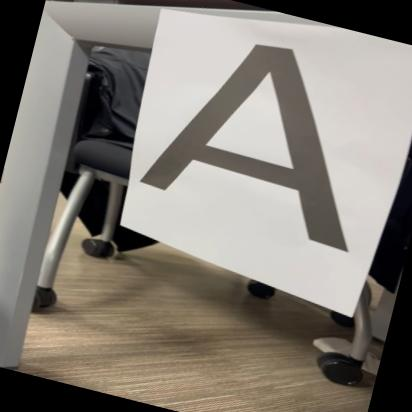seat: (127, 15, 402, 255)
